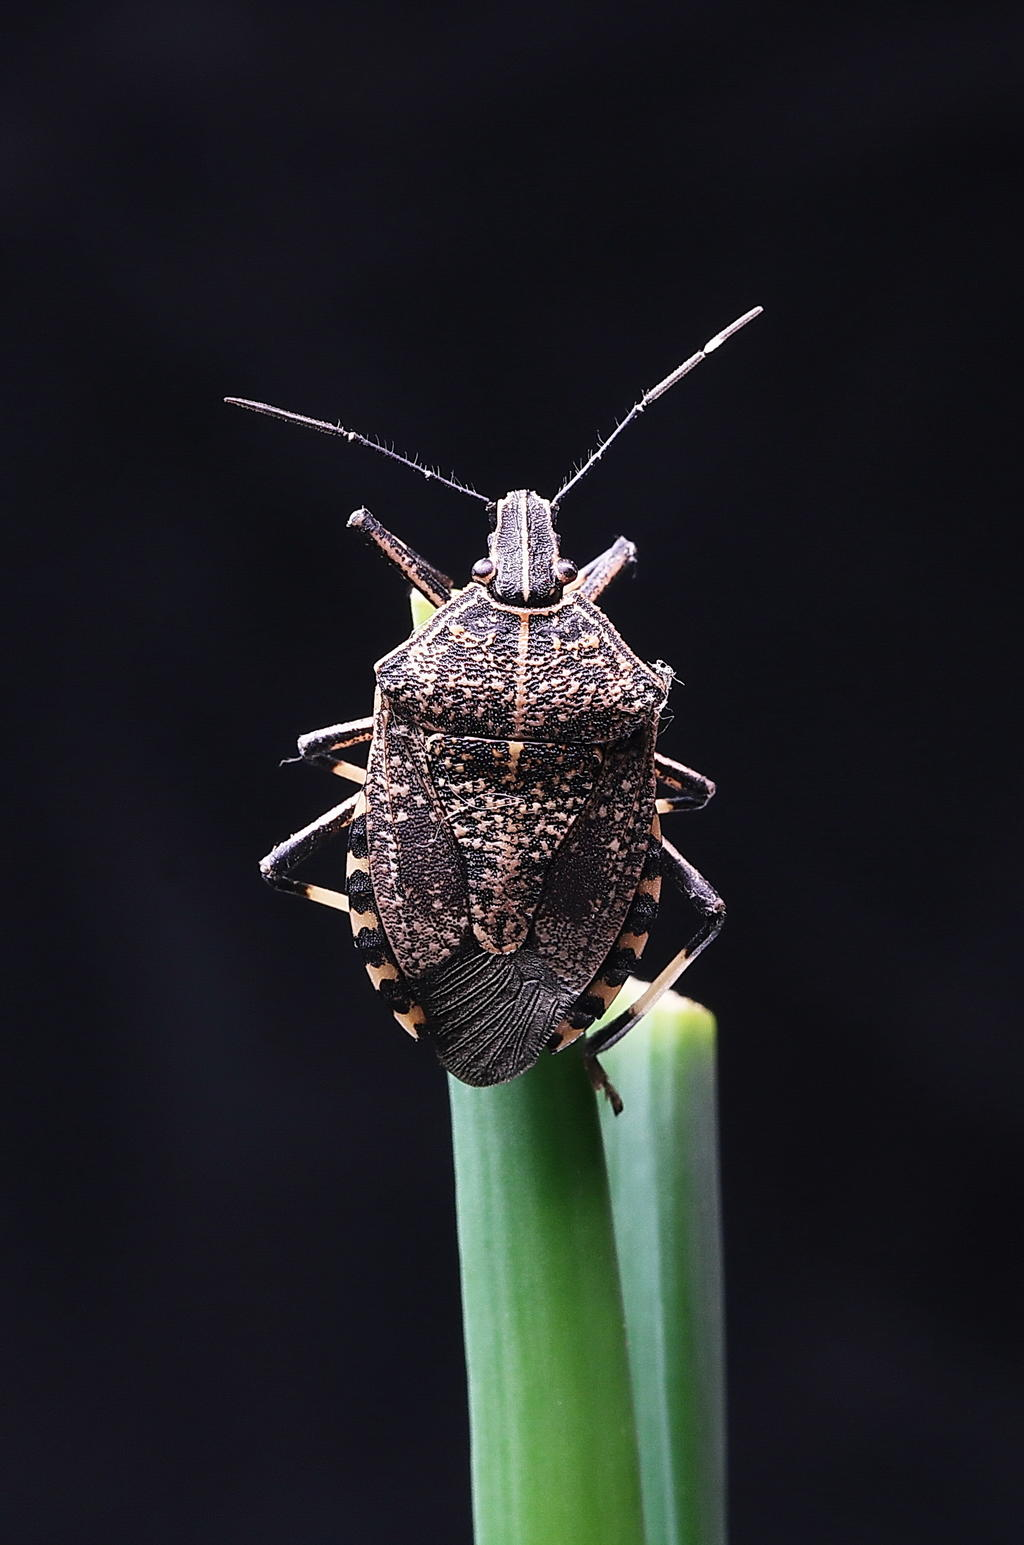chunchong: (210, 341, 766, 1080)
